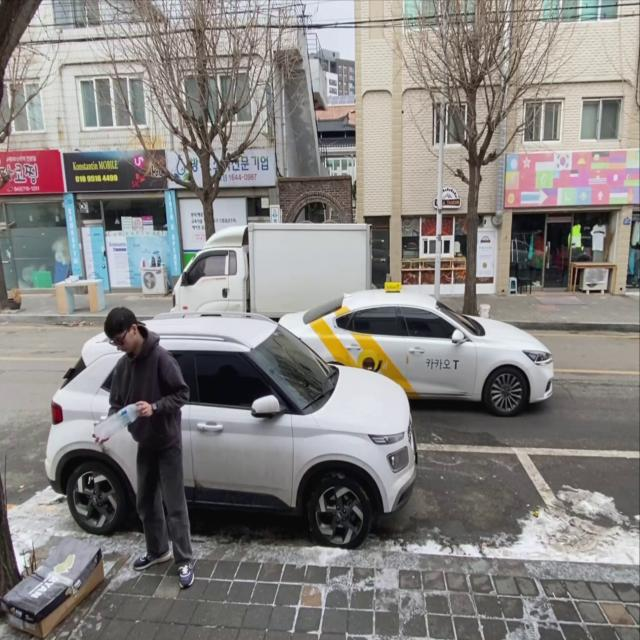bare_hand: (134, 398, 154, 419)
